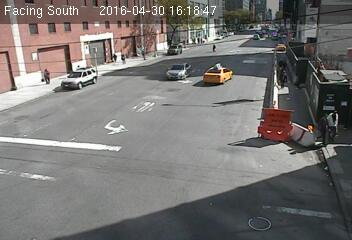neg: (258, 111, 290, 154), (227, 87, 255, 124), (47, 178, 68, 205), (209, 164, 229, 191), (52, 110, 72, 136), (130, 105, 148, 129), (79, 66, 97, 90), (142, 169, 159, 191), (172, 100, 185, 117)
pos: (35, 64, 52, 86)
